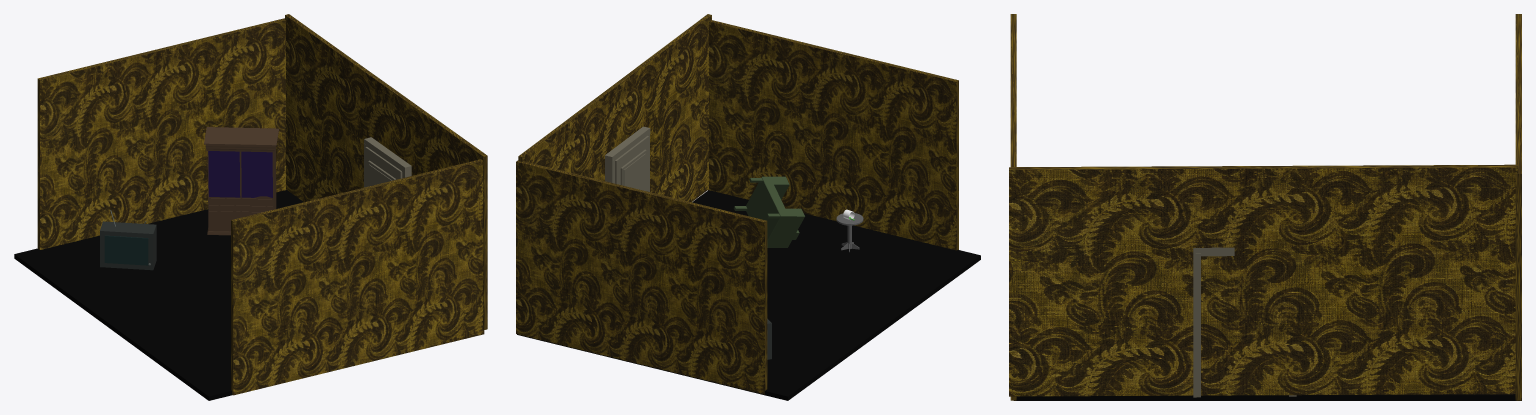
The model's file is Sala.glb.
3 renders of one model, left to right at view 1: azimuth 30°, elevation 25°; view 2: azimuth 150°, elevation 25°; view 3: azimuth 270°, elevation 25°, orthographic. The views are drawn at different scales.
Visible parts, largest first — view 1: Cube.002, Cube.001, Cube, Cube.003, pCube1, Botón TV.001, Dintel, Puerta principal; view 2: Cube.001, Cube.002, Cube, Cube.003, pasted__pPlane1, Puerta principal, Dintel, Centro de panel, pasted__pCylinder1; view 3: Cube.003, Cube, Cube.001, Jamba derecha, Cube.002.
Boxes of the visible parts, left/top/right/bottom form: Cube.002: left=231, top=159, right=484, bottom=395; Cube.001: left=37, top=18, right=286, bottom=249; Cube: left=14, top=190, right=303, bottom=400; Cube.003: left=285, top=14, right=487, bottom=330; pCube1: left=204, top=127, right=279, bottom=235; Botón TV.001: left=100, top=210, right=156, bottom=270; Dintel: left=364, top=137, right=411, bottom=173; Puerta principal: left=365, top=147, right=402, bottom=187; Cube.001: left=516, top=160, right=767, bottom=394; Cube.002: left=708, top=20, right=958, bottom=250; Cube: left=517, top=190, right=980, bottom=400; Cube.003: left=518, top=14, right=711, bottom=202; pasted__pPlane1: left=733, top=176, right=804, bottom=247; Puerta principal: left=615, top=136, right=648, bottom=191; Dintel: left=605, top=126, right=650, bottom=163; Centro de panel: left=623, top=153, right=645, bottom=186; pasted__pCylinder1: left=836, top=213, right=863, bottom=252; Cube.003: left=1009, top=164, right=1517, bottom=396; Cube: left=1014, top=394, right=1521, bottom=400; Cube.001: left=1515, top=14, right=1521, bottom=400; Jamba derecha: left=1193, top=253, right=1200, bottom=397; Cube.002: left=1010, top=14, right=1016, bottom=400.
Bounding box in the file's own units: 0.2563 × 0.1581 × 0.3144.
Materials: 14 (1 with a texture image).
